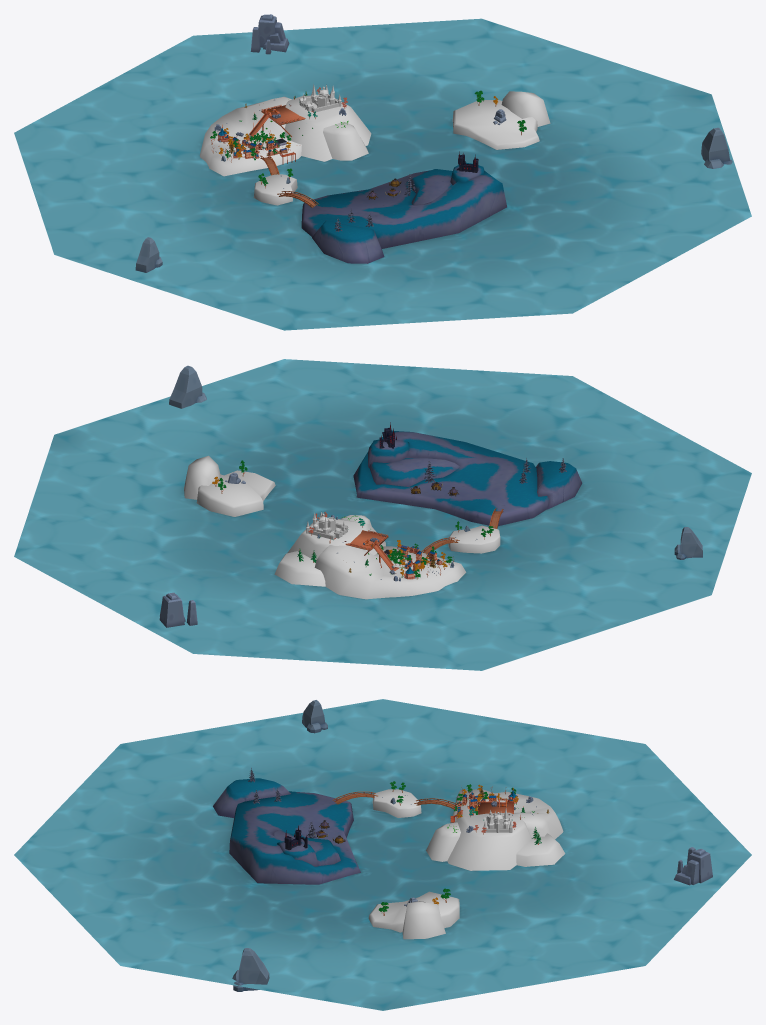
The model's file is escenario.fbx.
3 views of the same model, one above another, from view 1: azimuth 30°, elevation 25°; view 2: azimuth 150°, elevation 25°; view 3: azimuth 270°, elevation 25° (orthographic). The views are drawn at different scales.
Visible parts, largest first — view 1: agua, isla_villano, isla_heroe, islas_decoracion, ROCA 3.001, islas_decoracion.001, roca 1.008, castillo_heroe, base, roca 1.007; view 2: agua, isla_villano, isla_heroe, islas_decoracion, islas_decoracion.001, roca 1.008, ROCA 3.001, base, castillo_heroe, roca 1.007; view 3: agua, isla_villano, isla_heroe, islas_decoracion, islas_decoracion.001, roca 1.008, ROCA 3.001, roca 1.007, castillo_heroe.
Boxes of the visible parts, box(x1,y1,x2,y2) form: agua: box(14, 18, 751, 330); isla_villano: box(301, 162, 506, 263); isla_heroe: box(199, 95, 371, 176); islas_decoracion: box(452, 91, 550, 149); ROCA 3.001: box(250, 14, 289, 54); islas_decoracion.001: box(253, 174, 297, 205); roca 1.008: box(701, 127, 732, 168); castillo_heroe: box(299, 84, 341, 112); base: box(244, 105, 305, 140); roca 1.007: box(135, 237, 162, 272); agua: box(14, 359, 751, 670); isla_villano: box(353, 430, 582, 526); isla_heroe: box(274, 515, 466, 599); islas_decoracion: box(184, 455, 275, 516); islas_decoracion.001: box(448, 525, 500, 553); roca 1.008: box(169, 365, 206, 408); ROCA 3.001: box(159, 592, 197, 627); base: box(345, 530, 398, 570); castillo_heroe: box(306, 511, 348, 539); roca 1.007: box(674, 527, 702, 559); agua: box(14, 699, 751, 1010); isla_villano: box(213, 778, 360, 884); isla_heroe: box(426, 789, 565, 870); islas_decoracion: box(368, 891, 459, 939); islas_decoracion.001: box(372, 789, 421, 817); roca 1.008: box(232, 948, 269, 991); ROCA 3.001: box(674, 847, 712, 885); roca 1.007: box(302, 700, 327, 733); castillo_heroe: box(483, 808, 512, 832).
Bounding box in the file's own units: 109549 × 8629 × 109549.
